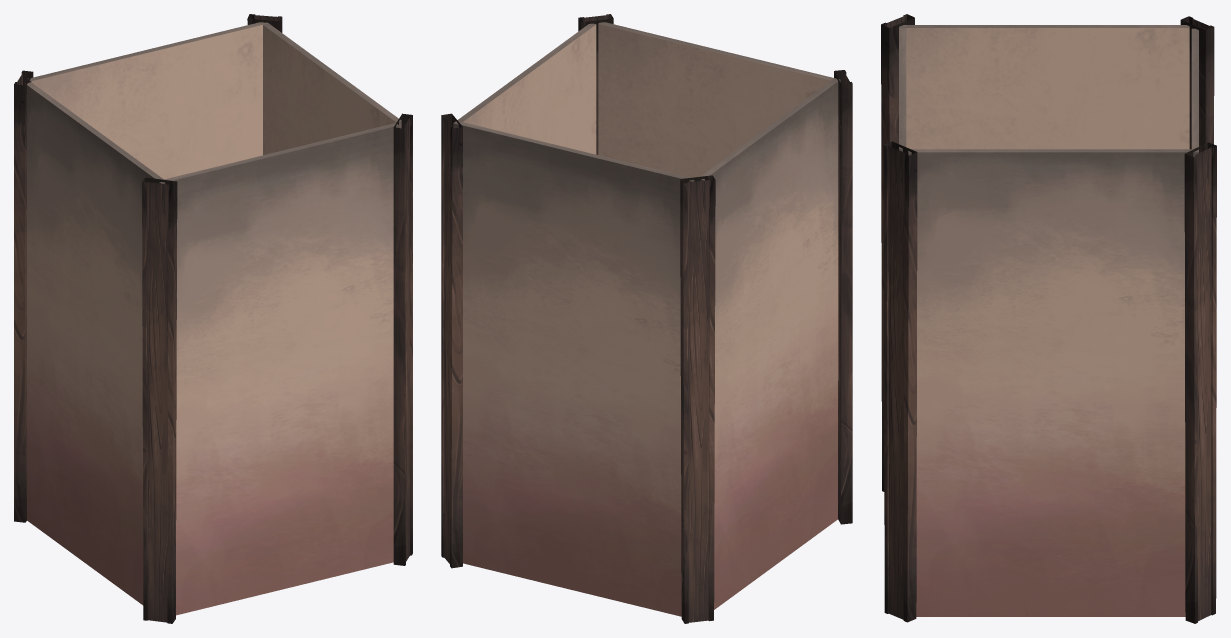
Rendered from Wall_Mid_Pillar_V1.fbx.
3 views of the same model, side by side, from view 1: azimuth 30°, elevation 25°; view 2: azimuth 150°, elevation 25°; view 3: azimuth 270°, elevation 25° (orthographic). The views are drawn at different scales.
Visible parts, largest first — view 1: Pillar_Mid; view 2: Pillar_Mid; view 3: Pillar_Mid.
Boxes of the visible parts, box(x1,y1,x2,y2) form: Pillar_Mid: box(14, 14, 412, 623); Pillar_Mid: box(441, 14, 852, 623); Pillar_Mid: box(881, 14, 1216, 623).
Bounding box in the file's own units: 0.0277 × 0.0422 × 0.0275.
